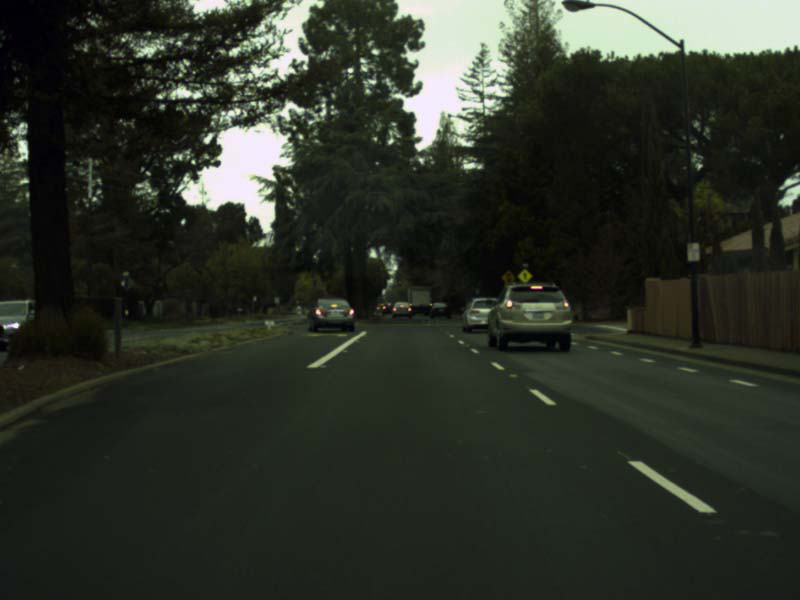Red: (397, 278, 402, 287)
